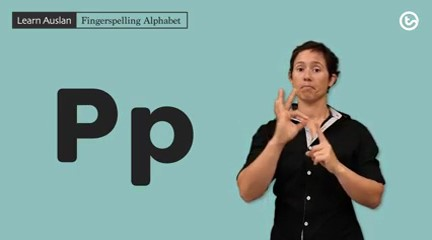P: (270, 87, 340, 172)
